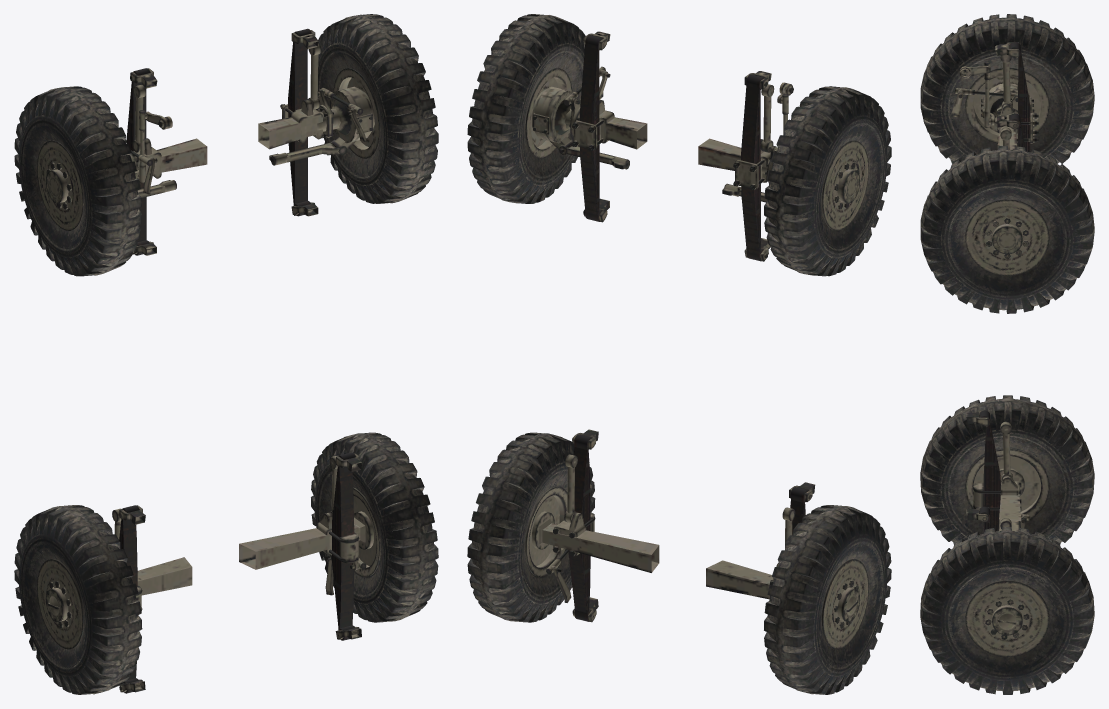
The model's file is Chassis.glb.
3 renders of one model, left to right at view 1: azimuth 30°, elevation 25°; view 2: azimuth 150°, elevation 25°; view 3: azimuth 270°, elevation 25°, orthographic. The views are drawn at different scales.
Visible parts, largest first — view 1: set_1_group_0, set_3_group_0, set_2_group_0, set_1_group_1, set_0_group_0, set_2_group_1, set_0_group_1, set_3_group_1; view 2: set_1_group_0, set_3_group_0, set_2_group_0, set_0_group_0, set_1_group_1, set_2_group_1, set_3_group_1, set_0_group_1; view 3: set_3_group_0, set_1_group_0, set_3_group_1, set_0_group_0, set_1_group_1, set_2_group_0, set_0_group_1.
Part boxes in pixels (left/top/right/bottom): set_1_group_0: left=14, top=86, right=142, bottom=694; set_3_group_0: left=311, top=14, right=438, bottom=622; set_2_group_0: left=269, top=28, right=374, bottom=640; set_1_group_1: left=37, top=140, right=84, bottom=649; set_0_group_0: left=112, top=68, right=176, bottom=693; set_2_group_1: left=239, top=117, right=365, bottom=569; set_0_group_1: left=137, top=138, right=207, bottom=595; set_3_group_1: left=333, top=68, right=380, bottom=577; set_1_group_0: left=764, top=86, right=891, bottom=694; set_3_group_0: left=467, top=14, right=595, bottom=622; set_2_group_0: left=532, top=31, right=629, bottom=622; set_0_group_0: left=722, top=71, right=815, bottom=584; set_1_group_1: left=821, top=140, right=868, bottom=649; set_2_group_1: left=538, top=117, right=659, bottom=572; set_3_group_1: left=525, top=68, right=572, bottom=577; set_0_group_1: left=698, top=138, right=772, bottom=599; set_3_group_0: left=920, top=145, right=1094, bottom=694; set_1_group_0: left=920, top=14, right=1094, bottom=544; set_3_group_1: left=965, top=199, right=1049, bottom=657; set_0_group_0: left=951, top=42, right=1038, bottom=532; set_1_group_1: left=965, top=68, right=1049, bottom=520; set_2_group_0: left=966, top=113, right=1025, bottom=529; set_0_group_1: left=997, top=126, right=1021, bottom=531.
Bounding box in the file's own units: 2.66 × 4.39 × 1.26.
Materials: 8 (8 with a texture image).
